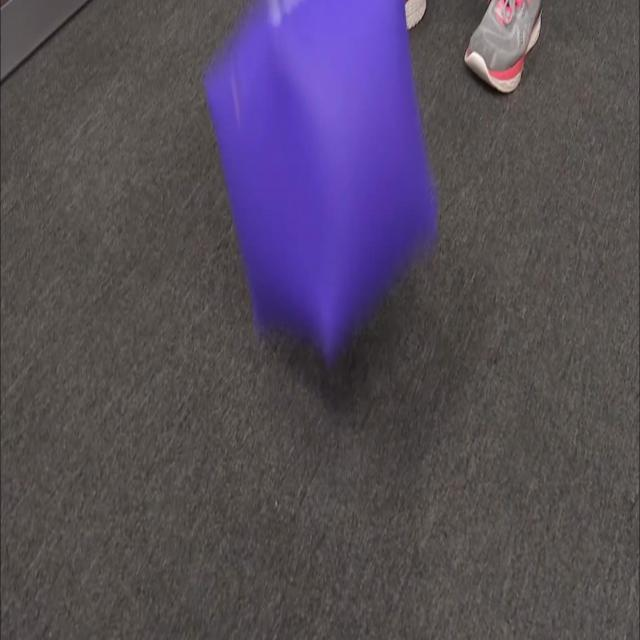frc_cube: (206, 0, 444, 373)
